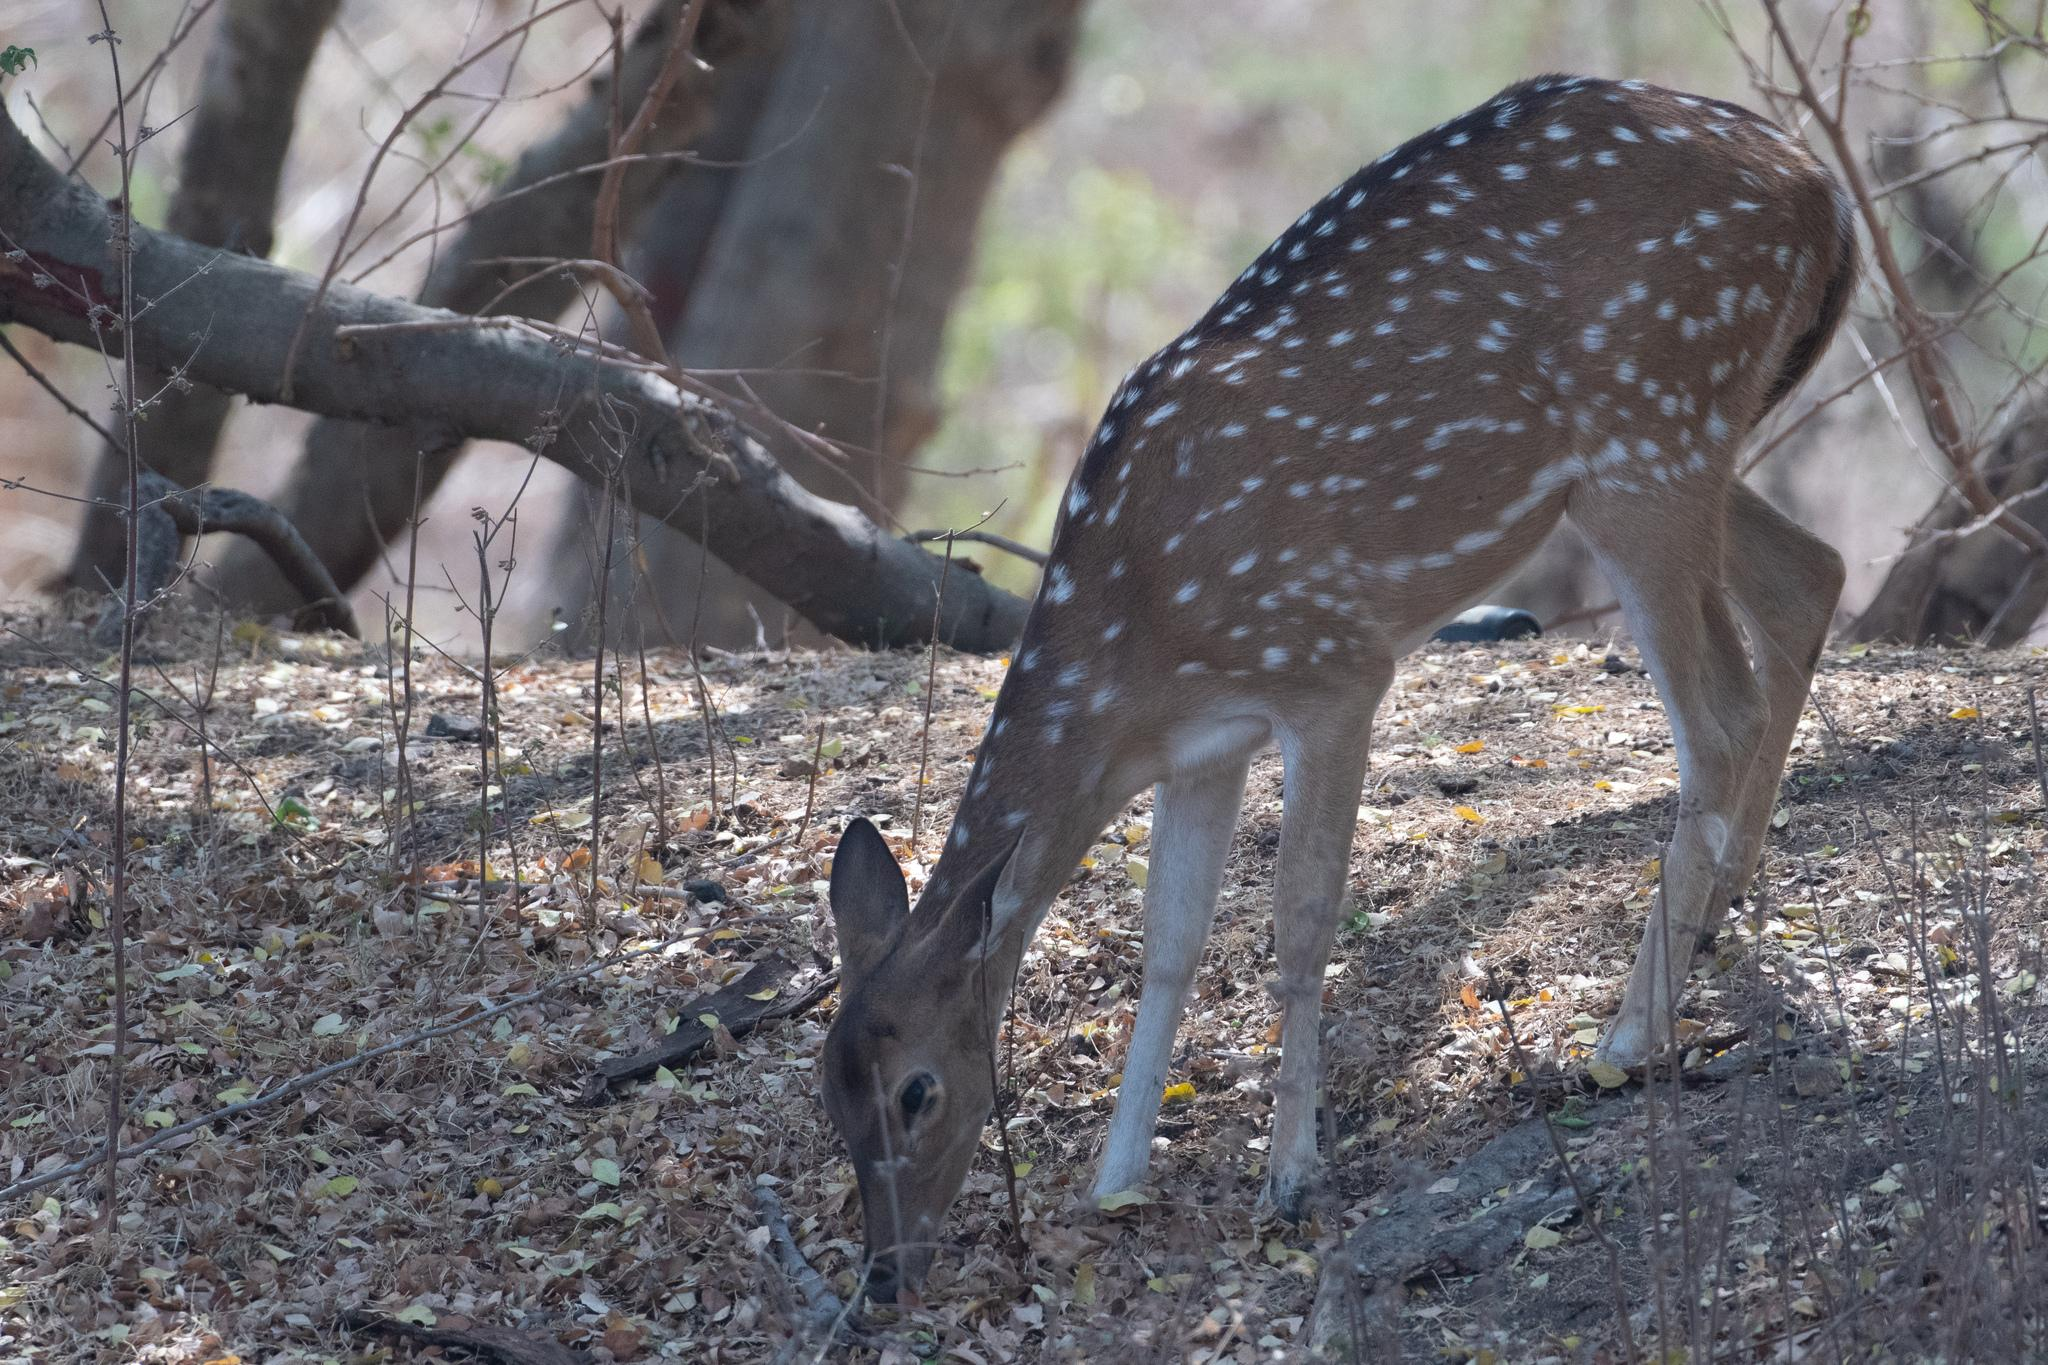Deer: (823, 76, 1856, 1299)
